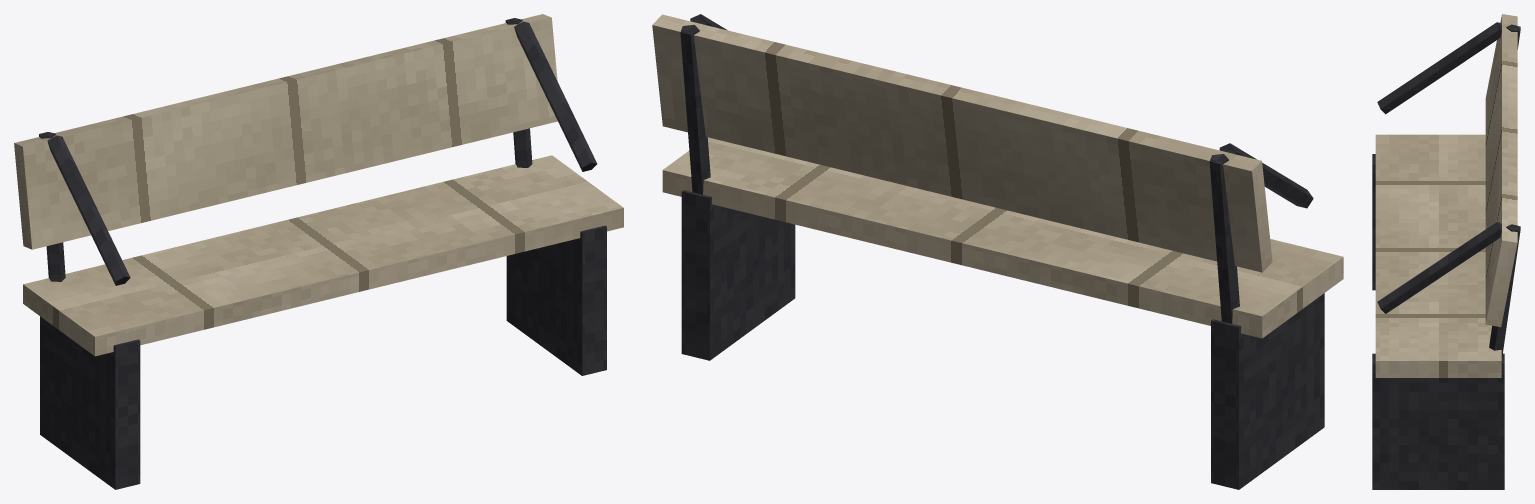
The model's file is bench.glb.
3 views of the same model, side by side, from view 1: azimuth 30°, elevation 25°; view 2: azimuth 150°, elevation 25°; view 3: azimuth 270°, elevation 25° (orthographic). The views are drawn at different scales.
Visible parts, largest first — view 1: body; view 2: body; view 3: body.
Boxes of the visible parts, left/top/right/bottom form: body: left=14, top=14, right=623, bottom=489; body: left=652, top=14, right=1343, bottom=489; body: left=1372, top=14, right=1520, bottom=489.
Bounding box in the file's own units: 1.7 × 0.9201 × 0.4701.
Materials: 2 (2 with a texture image).
